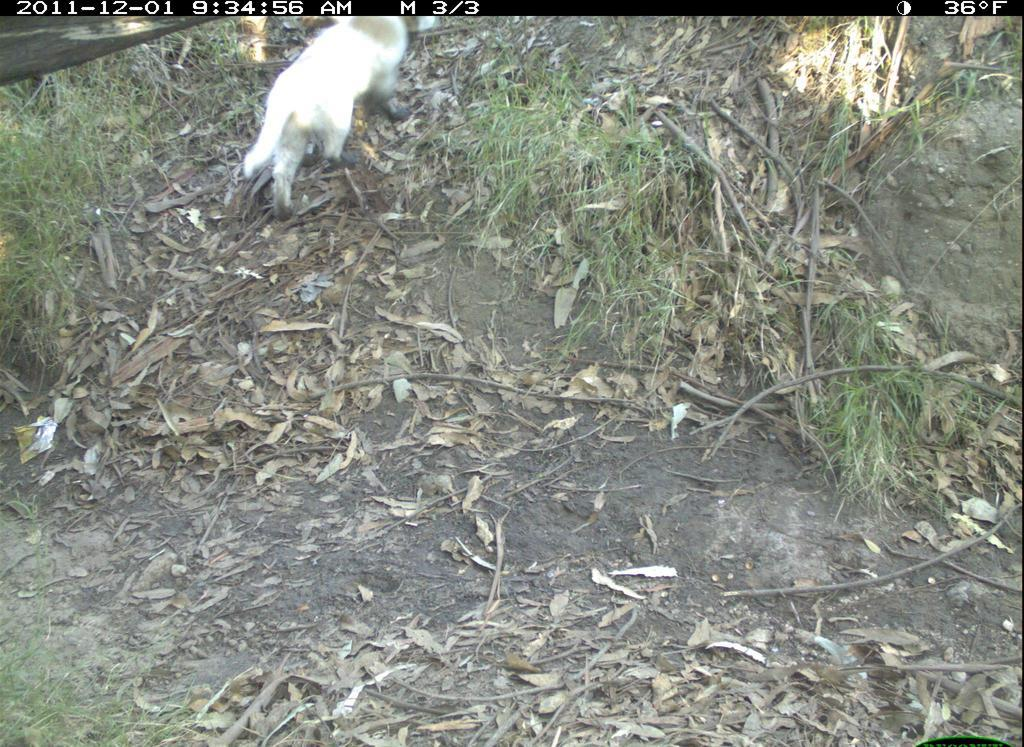dog: (219, 17, 460, 235)
